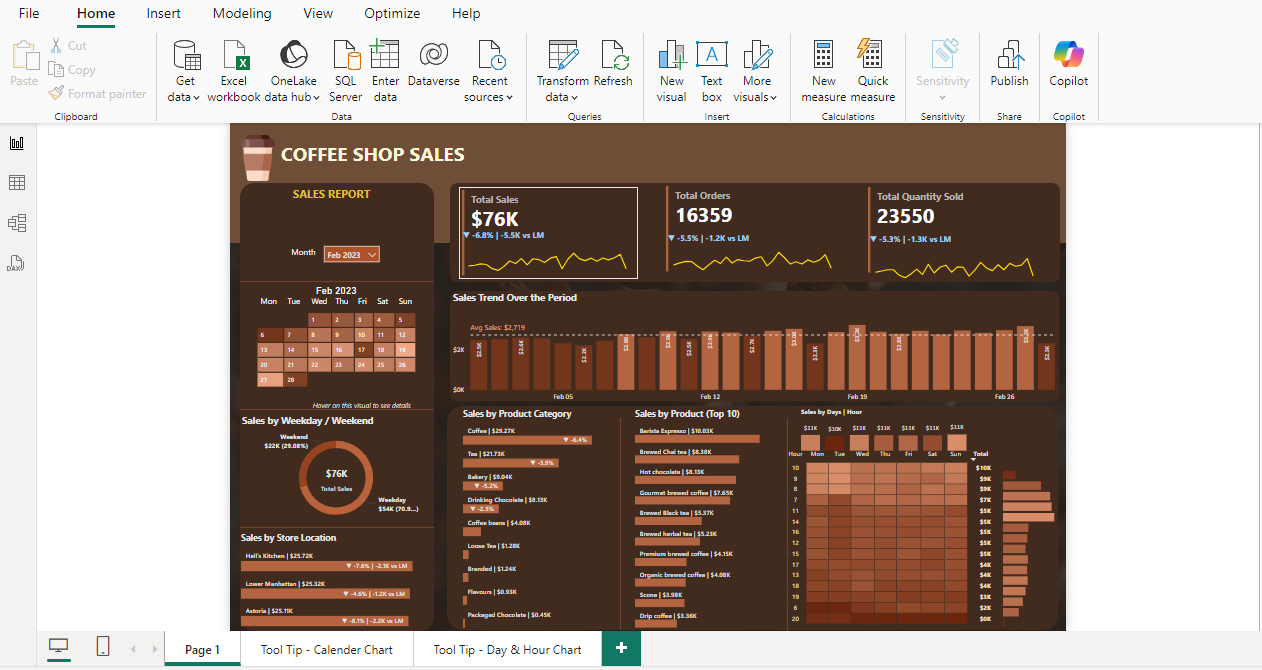

The page's visual inventory and layout, read from the dashboard file:
{"tool":"powerbi","page":{"name":"Dashboard","canvas":[1400,850],"ordinal":0},"visuals":[{"type":"shape","box":[0,0,1400.5,200.8],"z":0},{"type":"shape","box":[16.7,100.4,324.6,749.6],"z":1000},{"type":"shape","box":[368.1,100.4,1020.7,165.6],"z":2000},{"type":"textbox","box":[80.3,23.4,348,56.9],"z":3000},{"type":"cardVisual","fields":{"Data":["Transactions.Total Orders"]},"box":[724.5,100.4,299.5,153.9],"z":4000,"group":"g2"},{"type":"cardVisual","fields":{"Data":["Transactions.Total Quantity Sold"]},"box":[1062.5,102.1,299.5,153.9],"z":4000,"group":"g3"},{"type":"cardVisual","fields":{"Data":["Transactions.Total Sales"]},"box":[383.2,107.1,300,153.3],"z":4000,"group":"g1"},{"type":"slicer","fields":{"Values":["Date Table.Month Year"]},"box":[151.7,200,103.3,50],"z":4000},{"type":"group","id":"g1","title":"Group 1","box":[383.2,107.1,299.5,153.9],"z":5000},{"type":"lineChart","fields":{"Category":["Date Table.Date.Variation.Date Hierarchy.Year","Date Table.Date.Variation.Date Hierarchy.Quarter","Date Table.Date.Variation.Date Hierarchy.Month","Date Table.Date.Variation.Date Hierarchy.Day"],"Y":["Transactions.Total Sales"]},"box":[385.5,179.8,292.8,79.3],"z":5001,"group":"g1"},{"type":"lineChart","fields":{"Category":["Date Table.Date.Variation.Date Hierarchy.Year","Date Table.Date.Variation.Date Hierarchy.Quarter","Date Table.Date.Variation.Date Hierarchy.Month","Date Table.Date.Variation.Date Hierarchy.Day"],"Y":["Transactions.Total Orders"]},"box":[727.8,184.1,292.8,80.3],"z":5001,"group":"g2"},{"type":"lineChart","fields":{"Category":["Date Table.Date.Variation.Date Hierarchy.Year","Date Table.Date.Variation.Date Hierarchy.Quarter","Date Table.Date.Variation.Date Hierarchy.Month","Date Table.Date.Variation.Date Hierarchy.Day"],"Y":["Transactions.Total Quantity Sold"]},"box":[1065.8,185.8,292.8,80.3],"z":5001,"group":"g3"},{"type":"group","id":"g2","title":"Group 2","box":[724.5,100.4,299.5,164],"z":6000},{"type":"group","id":"g3","title":"Group 2","box":[1062.5,102.1,299.5,164],"z":7000},{"type":"card","fields":{"Values":["Min(Date Table.Month Year)"]},"box":[121.7,263.3,111.7,35],"z":8000},{"type":"card","fields":{"Values":["Date Table.Foot Note"]},"box":[100,453.3,240,41.7],"z":9000},{"type":"pivotTable","fields":{"Rows":["Date Table.Week Number"],"Columns":["Date Table.Day Name"],"Values":["Min(Date Table.Day Number)"]},"box":[15,281.7,325,205],"z":10000},{"type":"shape","box":[16.7,463.5,324.6,31.8],"z":11000},{"type":"shape","box":[16.7,249.3,324.6,31.8],"z":12000},{"type":"donutChart","title":"Sales by Weekday / Weekend","fields":{"Category":["Date Table.Weekday / Weekend"],"Y":["Transactions.Total Sales"]},"box":[15.1,486.9,324.6,192.4],"z":13000},{"type":"card","fields":{"Values":["Transactions.Total Sales"]},"box":[133.9,565.6,88.7,61.9],"z":14000},{"type":"shape","box":[16.7,661.7,325,31.7],"z":15000},{"type":"clusteredBarChart","title":"Sales by Store Location","fields":{"Category":["Transactions.store_location"],"Y":["Transactions.Placeholder","Transactions.Total Sales"]},"box":[13.3,683.3,325,166.7],"z":16000},{"type":"shape","box":[368.3,281.7,1020,185],"z":17000},{"type":"shape","box":[363.3,473.3,1023.3,375],"z":18000},{"type":"columnChart","title":"Sales Trend Over the Period","fields":{"Category":["Transactions.transaction_date"],"Y":["Transactions.Total Sales"]},"box":[368.3,281.7,1020,193.3],"z":19000},{"type":"clusteredBarChart","title":"Sales by Product Category","fields":{"Y":["Transactions.Placeholder","Transactions.Total Sales"],"Category":["Transactions.product_category"]},"box":[385,475,250,375],"z":20000},{"type":"shape","box":[635,493.3,35,355],"z":21000},{"type":"clusteredBarChart","title":"Sales by Product (Top 10)","fields":{"Y":["Transactions.Placeholder","Transactions.Total Sales"],"Category":["Transactions.product_type"]},"box":[672.5,475.3,250.5,374.7],"z":22000},{"type":"shape","box":[915,495,35,355],"z":23000},{"type":"pivotTable","fields":{"Rows":["Transactions.Hour"],"Columns":["Date Table.Day Name"],"Values":["Transactions.Total Sales"]},"box":[923.1,541.2,370.3,308.8],"z":24000},{"type":"barChart","fields":{"Category":["Transactions.Hour"],"Y":["Transactions.Total Sales"]},"box":[1288.4,568.9,98.7,279.4],"z":25000},{"type":"columnChart","title":"Sales by Days | Hour","fields":{"Y":["Transactions.Total Sales"],"Category":["Date Table.Day Name"]},"box":[950.5,474.7,287.9,79.1],"z":26000},{"type":"textbox","box":[93.7,200.8,58.6,48.5],"z":27000},{"type":"textbox","box":[100,100,185,76.7],"z":28000},{"type":"image","box":[0,15,93.3,86.7],"z":29000}]}

Visuals, with their boxes on the page's 1400x850 design canvas (x1, y1, x2, y2). These are canvas units, not pixel positions in the 1262x670 screenshot, which may show the page scaled, cropped or inside an application window:
shape: [x1=0, y1=0, x2=1400, y2=201]
shape: [x1=17, y1=100, x2=341, y2=850]
shape: [x1=368, y1=100, x2=1389, y2=266]
textbox: [x1=80, y1=23, x2=428, y2=80]
cardVisual - Transactions.Total Orders: [x1=724, y1=100, x2=1024, y2=254]
cardVisual - Transactions.Total Quantity Sold: [x1=1062, y1=102, x2=1362, y2=256]
cardVisual - Transactions.Total Sales: [x1=383, y1=107, x2=683, y2=260]
slicer - Date Table.Month Year: [x1=152, y1=200, x2=255, y2=250]
"Group 1" group: [x1=383, y1=107, x2=683, y2=261]
lineChart - Date Table.Date.Variation.Date Hierarchy.Year x Date Table.Date.Variation.Date Hierarchy.Quarter: [x1=386, y1=180, x2=678, y2=259]
lineChart - Date Table.Date.Variation.Date Hierarchy.Year x Date Table.Date.Variation.Date Hierarchy.Quarter: [x1=728, y1=184, x2=1021, y2=264]
lineChart - Date Table.Date.Variation.Date Hierarchy.Year x Date Table.Date.Variation.Date Hierarchy.Quarter: [x1=1066, y1=186, x2=1359, y2=266]
"Group 2" group: [x1=724, y1=100, x2=1024, y2=264]
"Group 2" group: [x1=1062, y1=102, x2=1362, y2=266]
card - Min(Date Table.Month Year): [x1=122, y1=263, x2=233, y2=298]
card - Date Table.Foot Note: [x1=100, y1=453, x2=340, y2=495]
pivotTable - Date Table.Week Number x Date Table.Day Name: [x1=15, y1=282, x2=340, y2=487]
shape: [x1=17, y1=464, x2=341, y2=495]
shape: [x1=17, y1=249, x2=341, y2=281]
"Sales by Weekday / Weekend" donutChart: [x1=15, y1=487, x2=340, y2=679]
card - Transactions.Total Sales: [x1=134, y1=566, x2=223, y2=628]
shape: [x1=17, y1=662, x2=342, y2=693]
"Sales by Store Location" clusteredBarChart: [x1=13, y1=683, x2=338, y2=850]
shape: [x1=368, y1=282, x2=1388, y2=467]
shape: [x1=363, y1=473, x2=1387, y2=848]
"Sales Trend Over the Period" columnChart: [x1=368, y1=282, x2=1388, y2=475]
"Sales by Product Category" clusteredBarChart: [x1=385, y1=475, x2=635, y2=850]
shape: [x1=635, y1=493, x2=670, y2=848]
"Sales by Product (Top 10)" clusteredBarChart: [x1=672, y1=475, x2=923, y2=850]
shape: [x1=915, y1=495, x2=950, y2=850]
pivotTable - Transactions.Hour x Date Table.Day Name: [x1=923, y1=541, x2=1293, y2=850]
barChart - Transactions.Hour x Transactions.Total Sales: [x1=1288, y1=569, x2=1387, y2=848]
"Sales by Days | Hour" columnChart: [x1=950, y1=475, x2=1238, y2=554]
textbox: [x1=94, y1=201, x2=152, y2=249]
textbox: [x1=100, y1=100, x2=285, y2=177]
image: [x1=0, y1=15, x2=93, y2=102]
